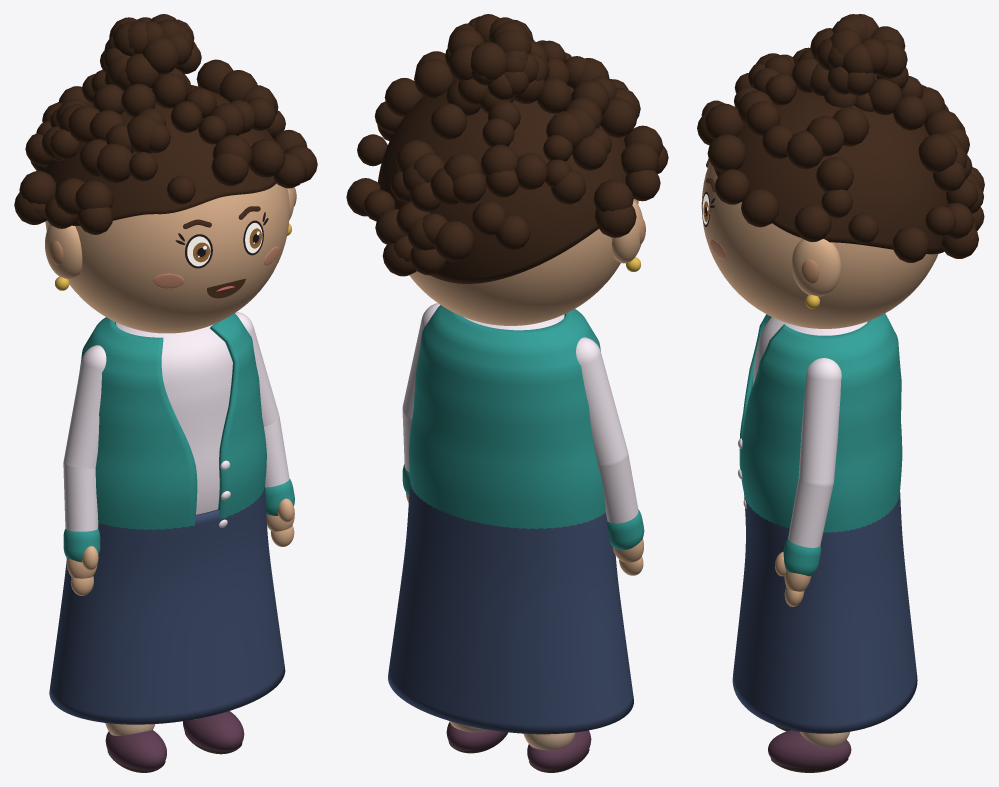
File: figurant_f.glb
The picture shows the model from 3 angles, left to right: view 1: azimuth 30°, elevation 25°; view 2: azimuth 150°, elevation 25°; view 3: azimuth 270°, elevation 25°; orthographic projection. The views are drawn at different scales.
Visible parts, largest first — view 1: figurant_f_rok, figurant_f_vest, figurant_f_hoofd, figurant_f_romp, figurant_f_haar, figurant_f_bovenarm_R, figurant_f_onderarm_R, figurant_f_schoen_R, figurant_f_schoen_L, figurant_f_oor_R, figurant_f_onderarm_L, figurant_f_bovenarm_L (+33 smaller); view 2: figurant_f_rok, figurant_f_vest, figurant_f_haar, figurant_f_hoofd, figurant_f_bovenarm_R, figurant_f_onderarm_R, figurant_f_schoen_R, figurant_f_krul13, figurant_f_krul48, figurant_f_krul1, figurant_f_knotkrul87, figurant_f_krul36 (+40 smaller); view 3: figurant_f_rok, figurant_f_vest, figurant_f_haar, figurant_f_hoofd, figurant_f_bovenarm_L, figurant_f_onderarm_L, figurant_f_schoen_L, figurant_f_oor_L, figurant_f_krul78, figurant_f_krul7, figurant_f_krul63, figurant_f_romp (+29 smaller).
Boxes of the visible parts, box(x1,y1,x2,y2) form: figurant_f_rok: box(49, 487, 285, 724); figurant_f_vest: box(78, 313, 266, 529); figurant_f_hoofd: box(45, 183, 289, 333); figurant_f_romp: box(116, 322, 232, 514); figurant_f_haar: box(45, 85, 276, 225); figurant_f_bovenarm_R: box(64, 345, 106, 469); figurant_f_onderarm_R: box(63, 463, 98, 531); figurant_f_schoen_R: box(105, 730, 166, 770); figurant_f_schoen_L: box(183, 711, 244, 751); figurant_f_oor_R: box(45, 224, 82, 279); figurant_f_onderarm_L: box(264, 417, 289, 487); figurant_f_bovenarm_L: box(235, 312, 278, 426); figurant_f_rok: box(388, 483, 633, 734); figurant_f_vest: box(409, 305, 605, 529); figurant_f_haar: box(378, 79, 633, 283); figurant_f_hoofd: box(409, 199, 638, 325); figurant_f_bovenarm_R: box(576, 337, 627, 467); figurant_f_onderarm_R: box(598, 454, 638, 523); figurant_f_schoen_R: box(527, 730, 591, 770); figurant_f_krul13: box(434, 220, 474, 261); figurant_f_krul48: box(414, 58, 454, 98); figurant_f_krul1: box(600, 97, 637, 137); figurant_f_knotkrul87: box(470, 42, 506, 79); figurant_f_krul36: box(430, 103, 466, 139); figurant_f_rok: box(732, 492, 917, 733); figurant_f_vest: box(739, 313, 902, 532); figurant_f_haar: box(714, 88, 947, 254); figurant_f_hoofd: box(701, 162, 938, 328); figurant_f_bovenarm_L: box(798, 358, 841, 487); figurant_f_onderarm_L: box(788, 479, 833, 547); figurant_f_schoen_L: box(768, 730, 851, 769); figurant_f_oor_L: box(791, 239, 841, 296); figurant_f_krul78: box(741, 188, 779, 227); figurant_f_krul7: box(707, 134, 746, 172); figurant_f_krul63: box(918, 133, 957, 172); figurant_f_romp: box(752, 317, 867, 386).
Size of the model in its own units: 0.7373 by 1.92 by 0.686.
